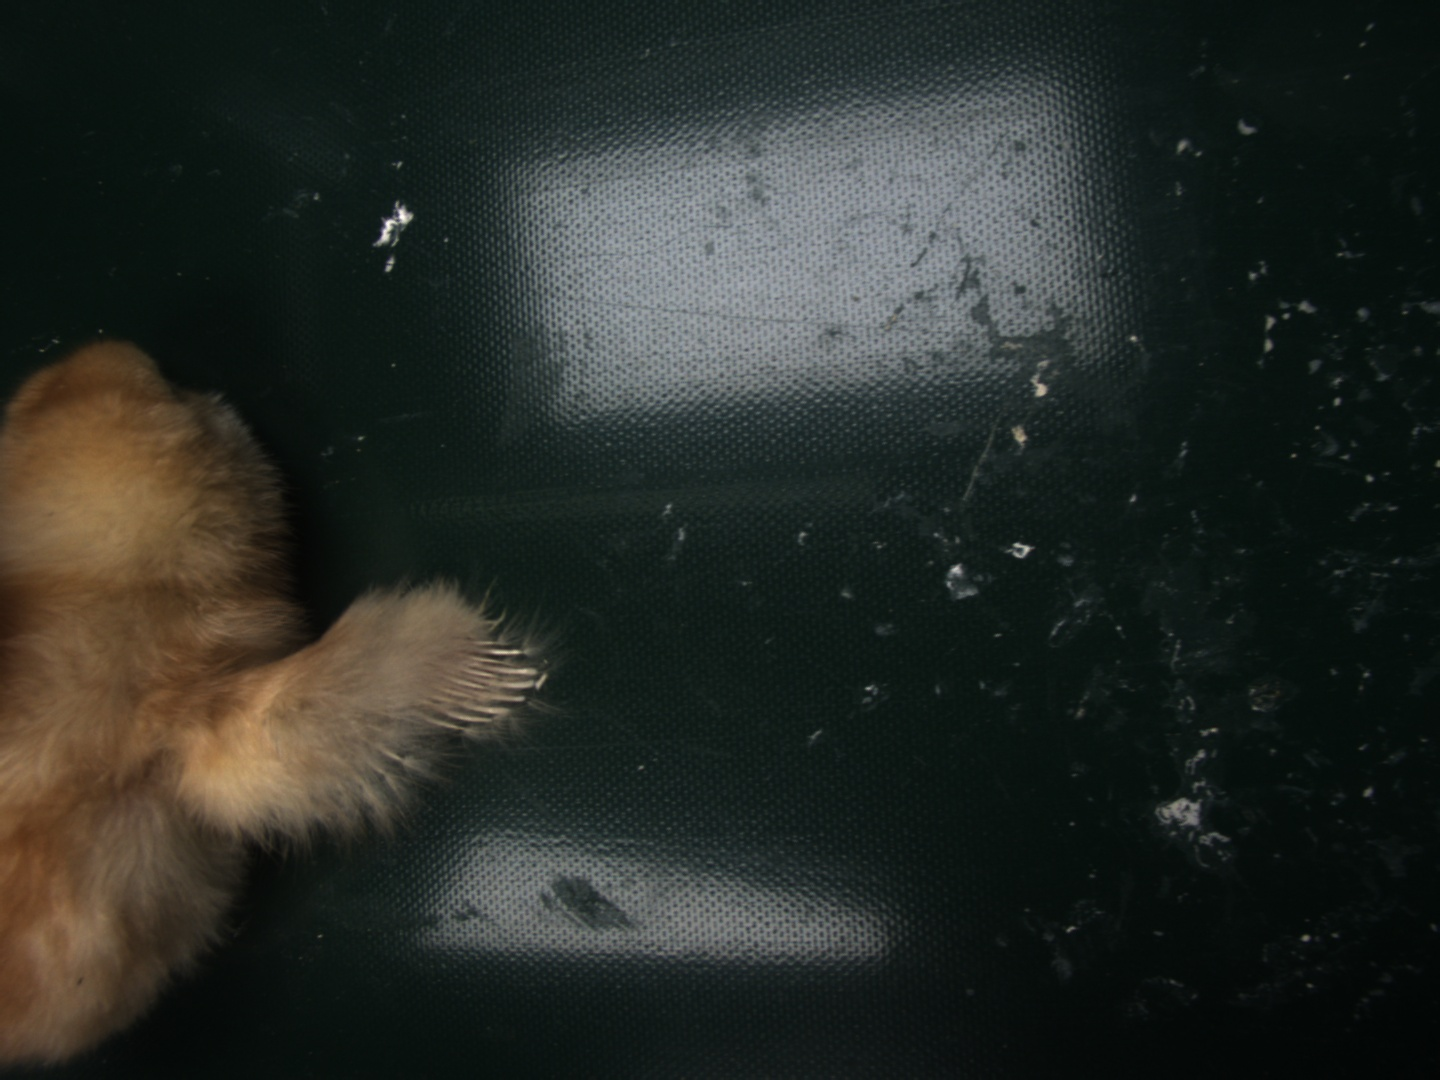female: (423, 638, 534, 736)
